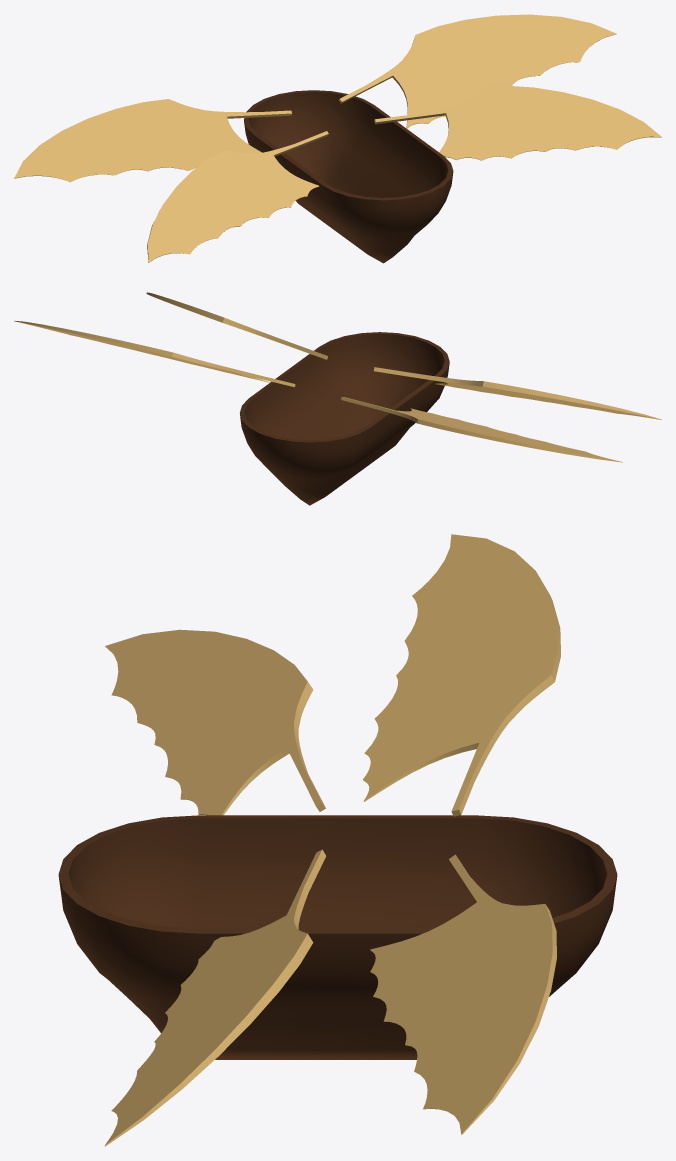
File: boat whole.dae
The picture shows the model from 3 angles, top to bottom: view 1: azimuth 30°, elevation 25°; view 2: azimuth 150°, elevation 25°; view 3: azimuth 270°, elevation 25°; orthographic projection. The views are drawn at different scales.
Parts seen in each view (by area): view 1: Boat_Body, Wing2, Wing1, Wing4, Wing3; view 2: Boat_Body, Wing1, Wing3, Wing2, Wing4; view 3: Boat_Body, Wing1, Wing2, Wing3, Wing4.
Part boxes in pixels (left/top/right/bottom): Boat_Body: left=244, top=90, right=453, bottom=263; Wing2: left=338, top=14, right=616, bottom=128; Wing1: left=14, top=99, right=292, bottom=182; Wing4: left=374, top=85, right=661, bottom=160; Wing3: left=147, top=131, right=328, bottom=262; Boat_Body: left=240, top=332, right=449, bottom=505; Wing1: left=341, top=397, right=622, bottom=462; Wing3: left=373, top=367, right=661, bottom=419; Wing2: left=14, top=320, right=295, bottom=387; Wing4: left=146, top=292, right=327, bottom=359; Boat_Body: left=58, top=815, right=617, bottom=1059; Wing1: left=363, top=534, right=560, bottom=816; Wing2: left=370, top=854, right=556, bottom=1134; Wing3: left=105, top=629, right=325, bottom=815; Wing4: left=104, top=849, right=325, bottom=1146.
Size of the model in its own units: 10.01 by 2.17 by 4.
